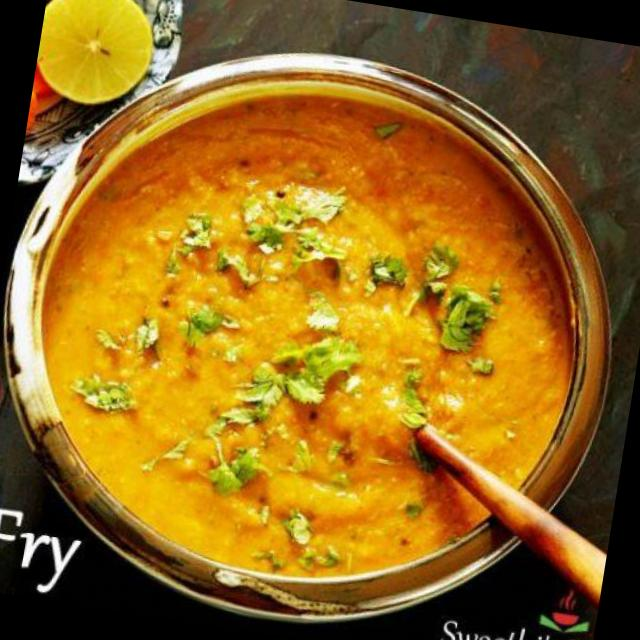dal: (45, 101, 569, 575)
